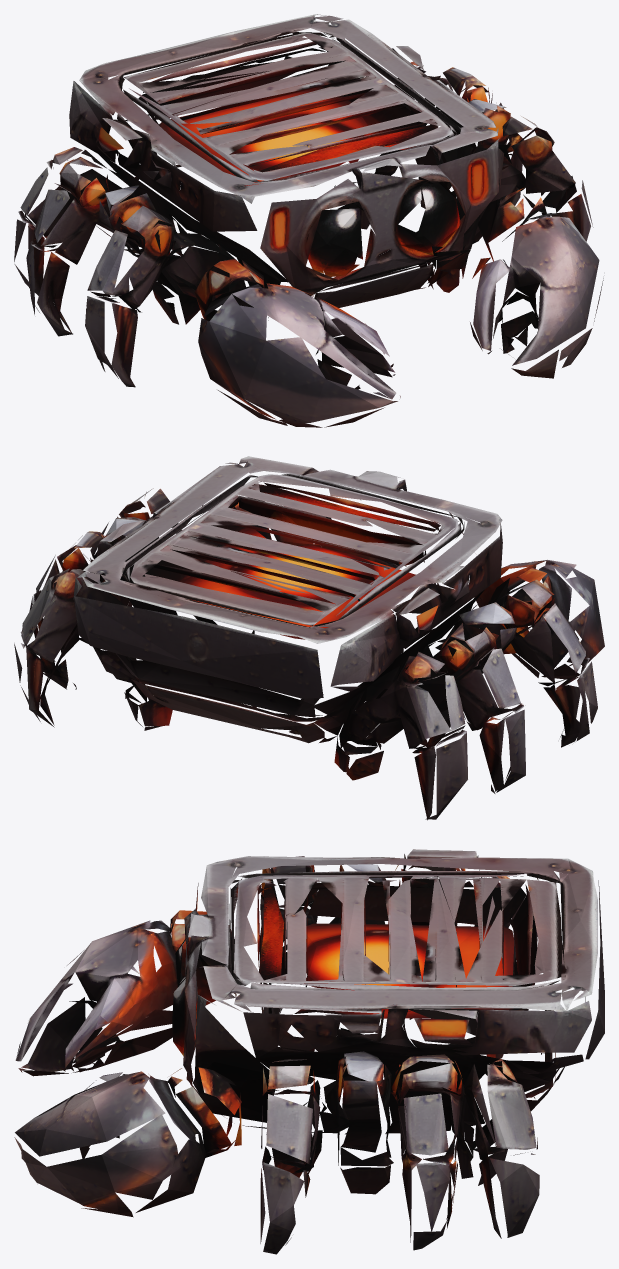
File: ventcrab_lo.glb
The picture shows the model from 3 angles, top to bottom: view 1: azimuth 30°, elevation 25°; view 2: azimuth 150°, elevation 25°; view 3: azimuth 270°, elevation 25°; orthographic projection. The views are drawn at different scales.
Parts seen in each view (by area): view 1: geometry_0; view 2: geometry_0; view 3: geometry_0.
Boxes of the visible parts, <box> form: geometry_0: <box>14,14,603,427</box>; geometry_0: <box>14,456,604,820</box>; geometry_0: <box>14,849,604,1254</box>.
Bounding box in the file's own units: 1 × 0.3758 × 0.9293.
Materials: 1 (1 with a texture image).
